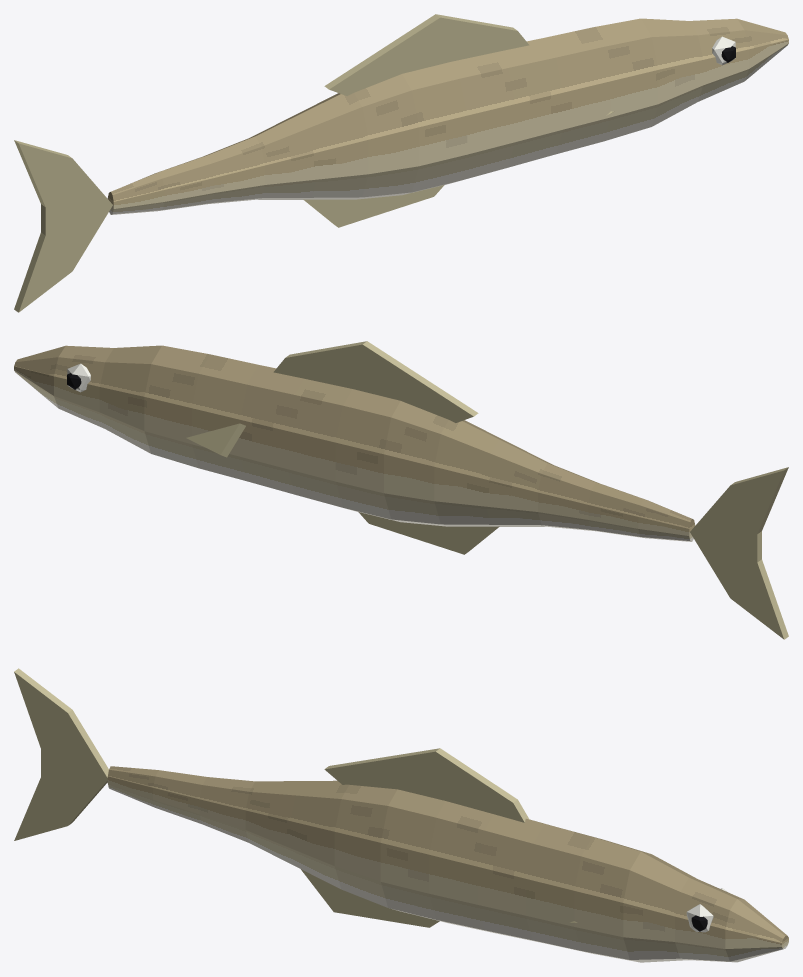
The model's file is stout_whiting.glb.
3 views of the same model, one above another, from view 1: azimuth 30°, elevation 25°; view 2: azimuth 150°, elevation 25°; view 3: azimuth 330°, elevation 25° (orthographic).
Parts seen in each view (by area): view 1: fish_stout_whiting; view 2: fish_stout_whiting; view 3: fish_stout_whiting.
Boxes of the visible parts, x1,y1,x2,y2 form: fish_stout_whiting: (14, 14, 788, 312); fish_stout_whiting: (14, 341, 788, 639); fish_stout_whiting: (14, 668, 788, 962).
Size of the model in its own units: 1.14 by 0.2725 by 0.1267.
4 materials, 1 textured.
